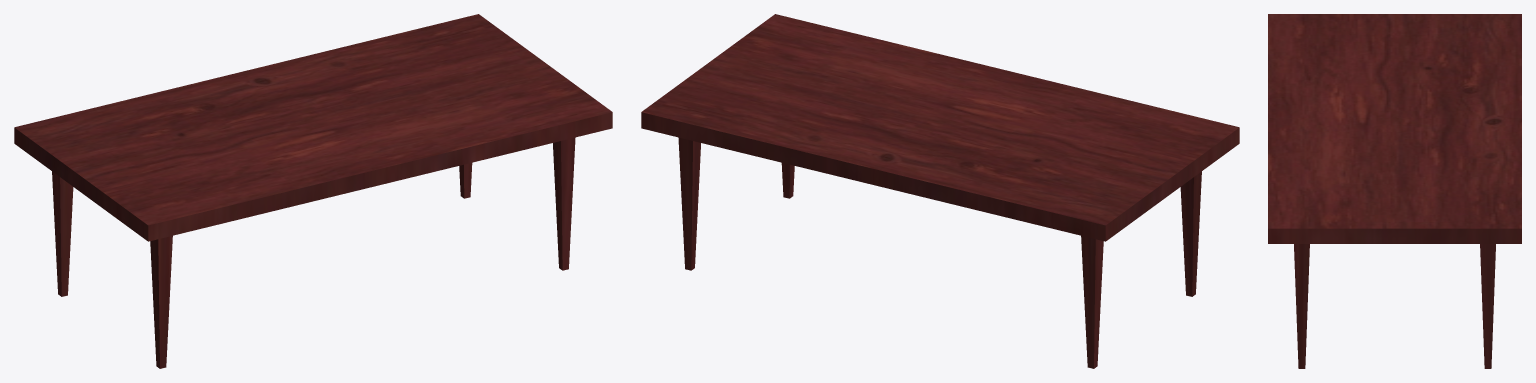
File: mesa_fea_9.glb
The picture shows the model from 3 angles, left to right: view 1: azimuth 30°, elevation 25°; view 2: azimuth 150°, elevation 25°; view 3: azimuth 270°, elevation 25°; orthographic projection. The views are drawn at different scales.
Parts seen in each view (by area): view 1: main_model; view 2: main_model; view 3: main_model.
Part boxes in pixels (<box>): main_model: <box>14,14,612,368</box>; main_model: <box>641,14,1239,368</box>; main_model: <box>1268,14,1521,368</box>.
Size of the model in its own units: 3.33 by 1.11 by 1.67.
1 material, 1 textured.
